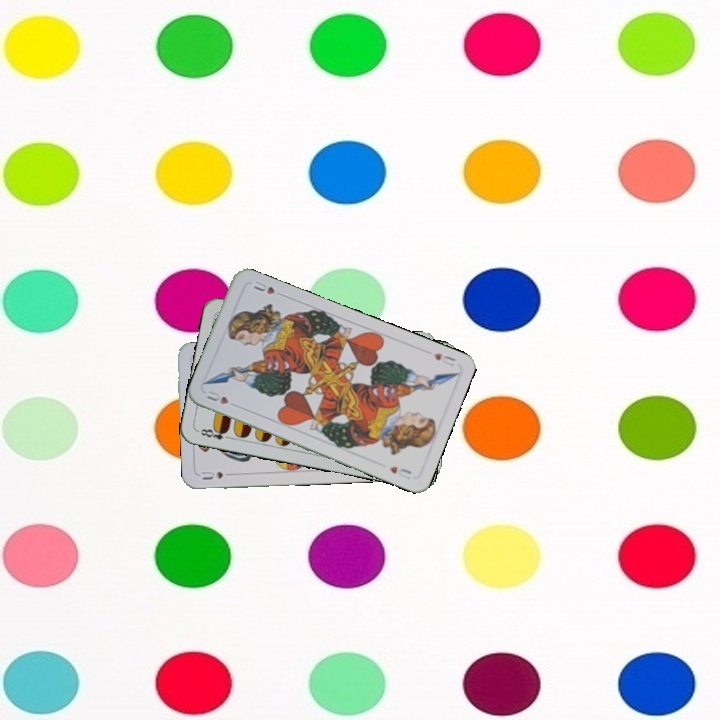E8: (196, 423, 234, 442)
HU: (203, 386, 231, 407), (429, 349, 458, 369)
SU: (197, 467, 225, 482)
